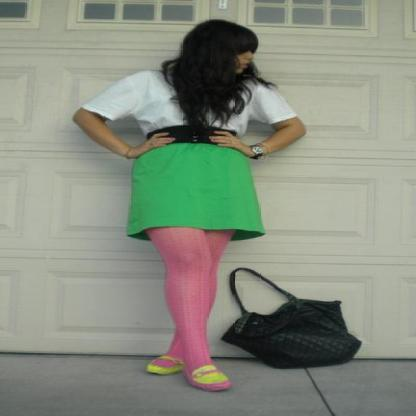bag: (220, 272, 361, 370)
shirt: (78, 64, 294, 132)
shoe: (146, 354, 226, 384)
skirt: (127, 142, 264, 240)
